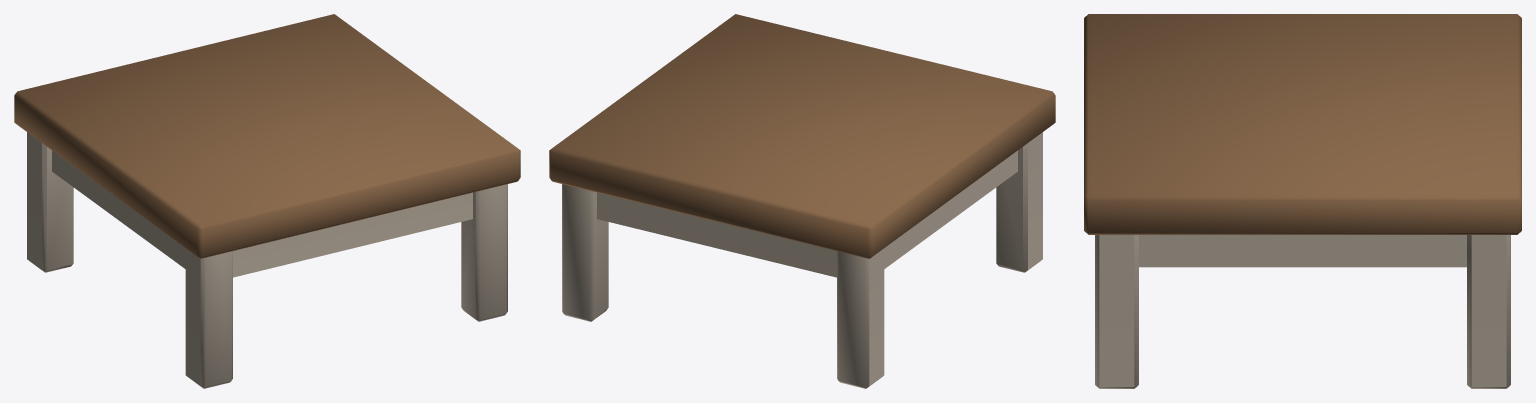
Rendered from table_medium.obj.
3 renders of one model, left to right at view 1: azimuth 30°, elevation 25°; view 2: azimuth 150°, elevation 25°; view 3: azimuth 270°, elevation 25°, orthographic. The views are drawn at different scales.
Parts seen in each view (by area): view 1: table_medium_Cube.003; view 2: table_medium_Cube.003; view 3: table_medium_Cube.003.
Part boxes in pixels (box(x1,y1,x2,y2)): table_medium_Cube.003: box(14, 14, 520, 388); table_medium_Cube.003: box(549, 14, 1055, 388); table_medium_Cube.003: box(1084, 14, 1521, 388).
Bounding box in the file's own units: 2 × 1 × 2.
1 material, 1 textured.
